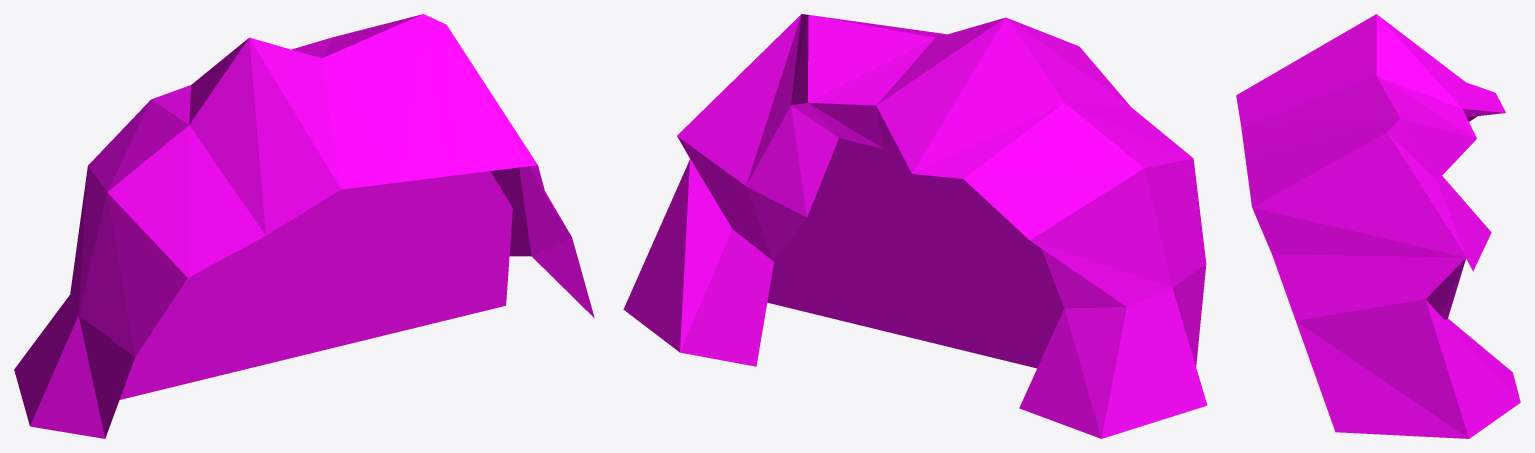
Rendered from small caveentrance2.obj.
The picture shows the model from 3 angles, left to right: view 1: azimuth 30°, elevation 25°; view 2: azimuth 150°, elevation 25°; view 3: azimuth 270°, elevation 25°; orthographic projection. The views are drawn at different scales.
Visible parts, largest first — view 1: small caveentrance2_back; view 2: small caveentrance2_back; view 3: small caveentrance2_back.
Boxes of the visible parts, x1,y1,x2,y2 form: small caveentrance2_back: (14,14,594,438); small caveentrance2_back: (623,14,1207,438); small caveentrance2_back: (1236,14,1520,438).
Bounding box in the file's own units: 4.03 × 2.39 × 2.15.
